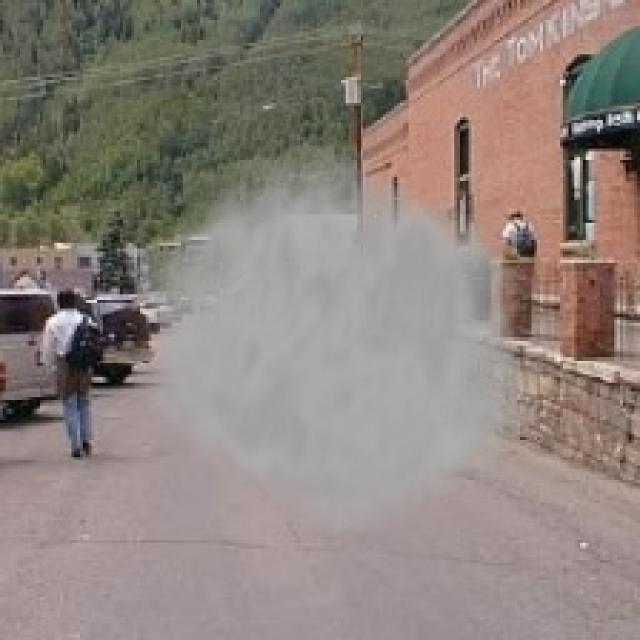Smoke: (134, 128, 552, 548)
